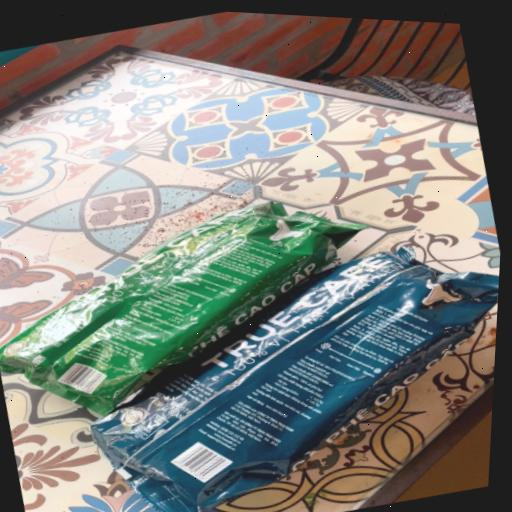cafe_hat: (91, 247, 499, 512)
cafe_xay: (0, 202, 363, 414)
